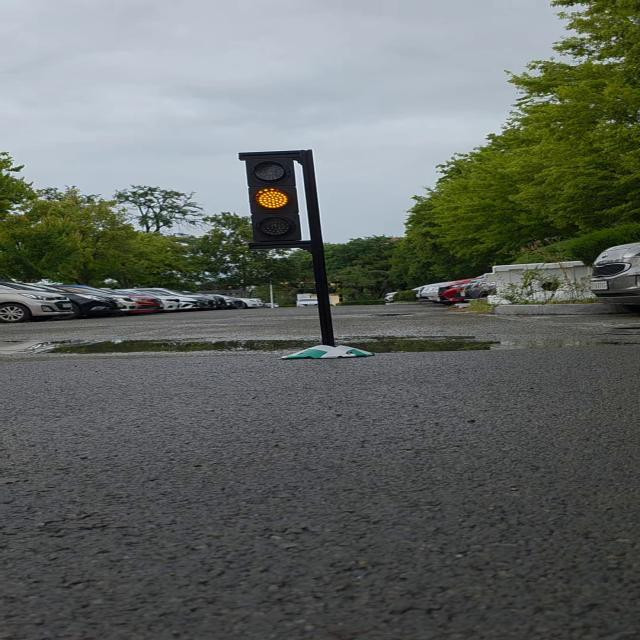yellow: (243, 152, 313, 250)
